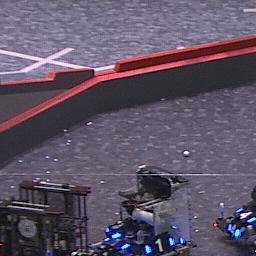Blue: (143, 235, 176, 256), (235, 207, 256, 224), (226, 220, 241, 238)
Robot: (97, 165, 197, 256), (1, 177, 95, 254), (212, 182, 256, 256)
